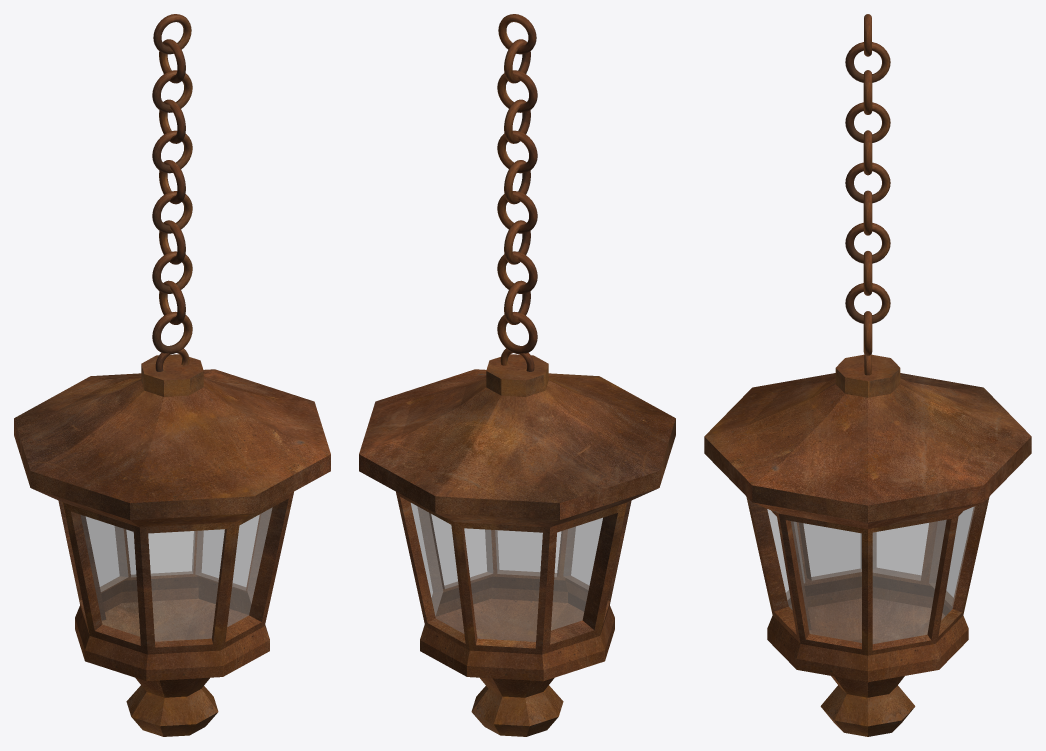
The model's file is LAMPARADETECHO (1).fbx.
The picture shows the model from 3 angles, left to right: view 1: azimuth 30°, elevation 25°; view 2: azimuth 150°, elevation 25°; view 3: azimuth 270°, elevation 25°; orthographic projection.
Parts seen in each view (by area): view 1: Circle, Torus; view 2: Circle, Torus; view 3: Circle, Torus.
Boxes of the visible parts, box(x1,y1,x2,y2) form: Circle: box(14, 354, 330, 736); Torus: box(152, 14, 192, 371); Circle: box(359, 354, 675, 736); Torus: box(497, 14, 537, 371); Circle: box(704, 354, 1031, 736); Torus: box(845, 14, 890, 375).
Size of the model in its own units: 161 by 383 by 161.
3 materials, 2 textured.
